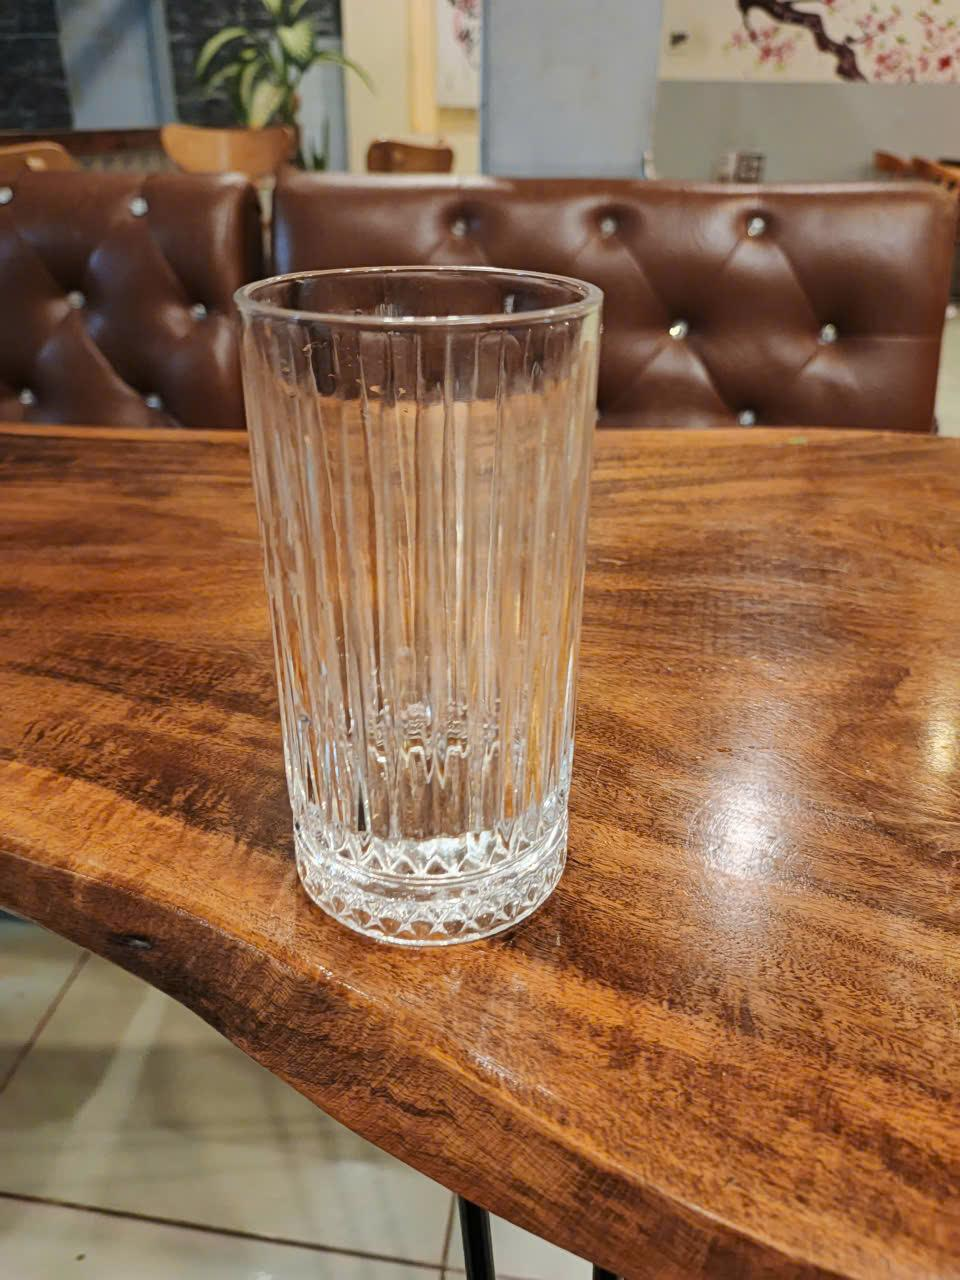Vo co: (235, 263, 608, 942)
